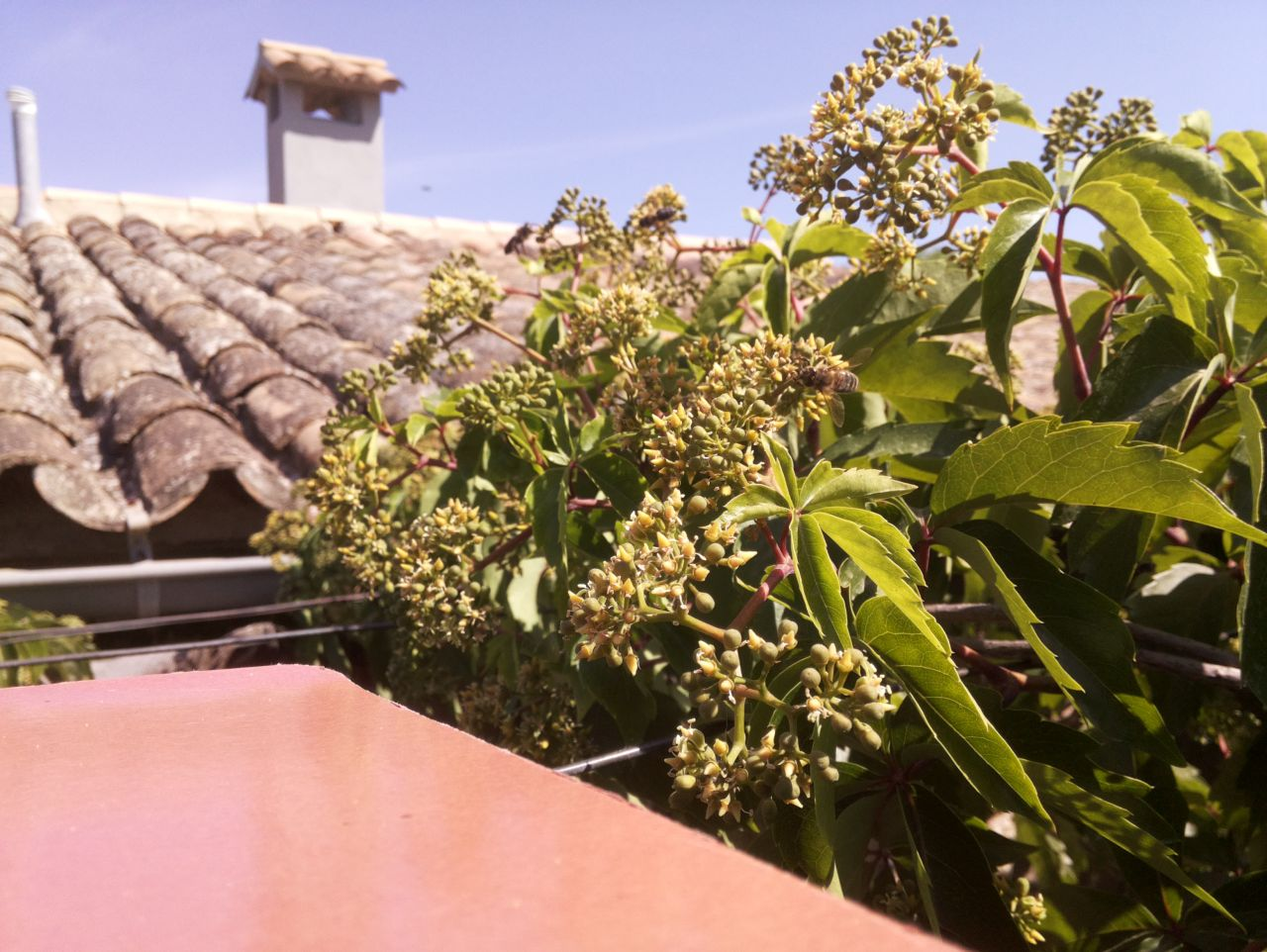Apis mellifera: (797, 333, 873, 425), (500, 219, 543, 265)
Unidentified insect: (634, 208, 690, 235)
